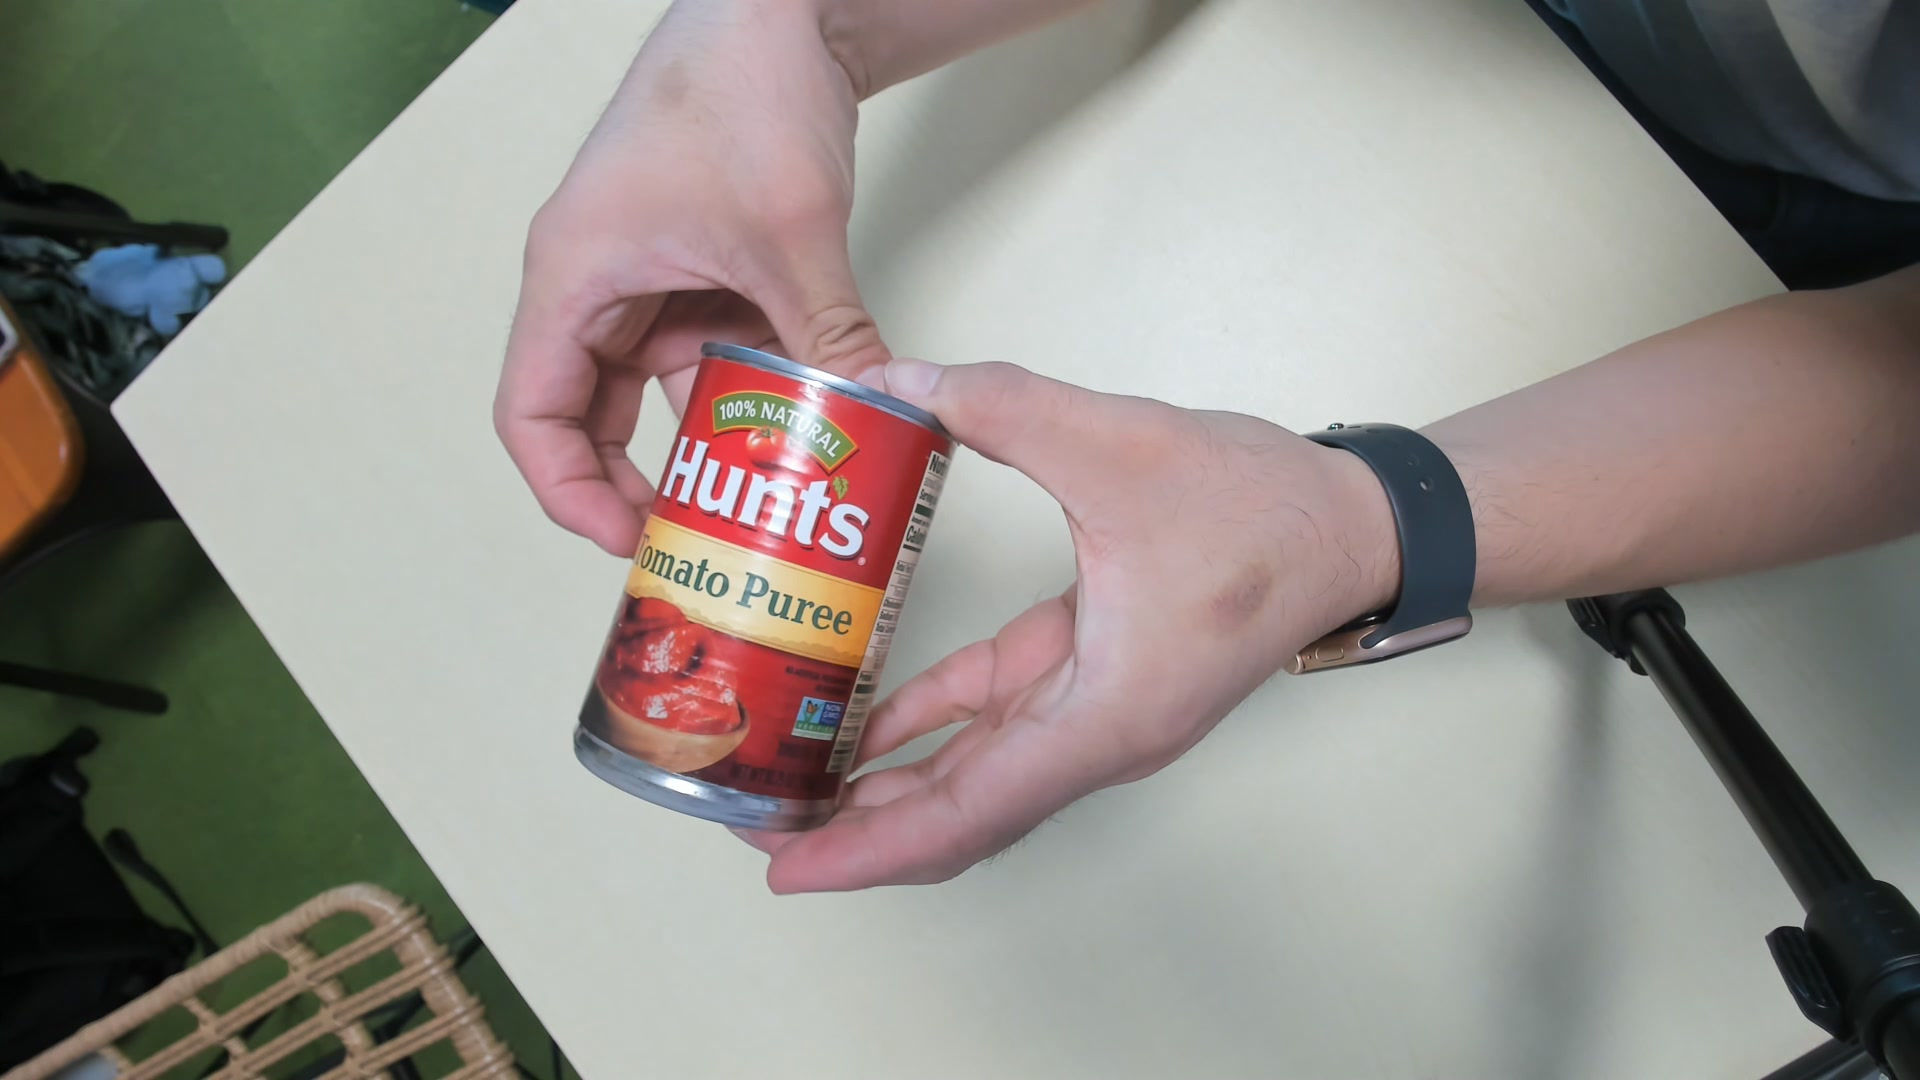OtherSauceDressing_300-399g_NonHalal_NonHealthy: (575, 334, 967, 832)
